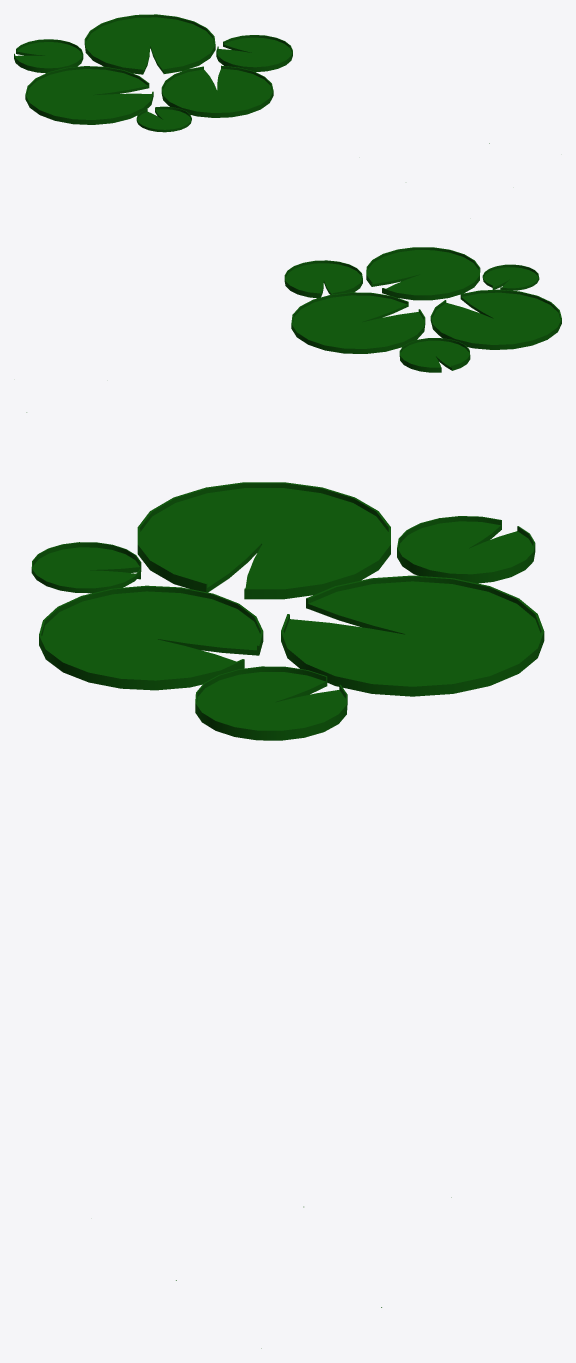
Rendered from lily_pad_1.glb.
3 renders of one model, top to bottom at view 1: azimuth 30°, elevation 25°; view 2: azimuth 150°, elevation 25°; view 3: azimuth 270°, elevation 25°, orthographic. The views are drawn at different scales.
Visible parts, largest first — view 1: Object_2.024; view 2: Object_2.024; view 3: Object_2.024.
Part boxes in pixels (x1,y1,x2,y2): Object_2.024: [14, 14, 292, 132]; Object_2.024: [284, 247, 561, 372]; Object_2.024: [31, 482, 544, 740].
Bounding box in the file's own units: 11.79 × 3.77 × 4.97.
1 material, 1 textured.
